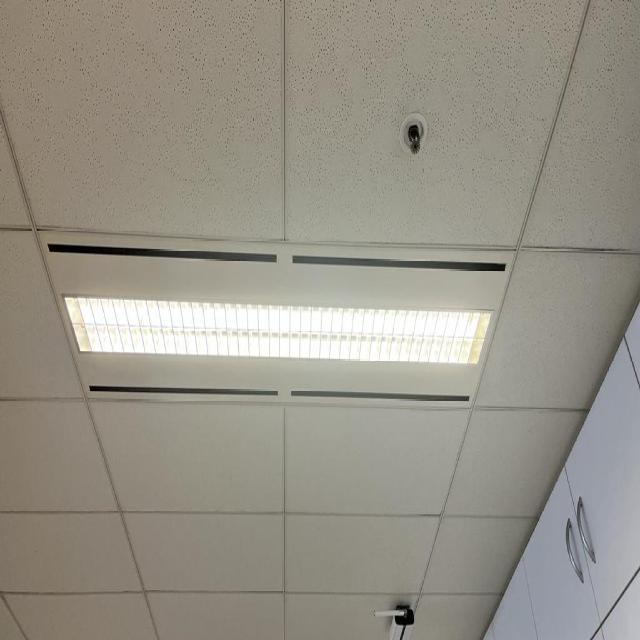Light-Opened: (34, 230, 515, 405)
